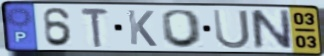6: (40, 6, 73, 49)
K: (125, 8, 159, 48)
N: (247, 8, 295, 51)
O: (160, 8, 205, 50)
T: (78, 6, 111, 49)
U: (211, 8, 253, 50)
